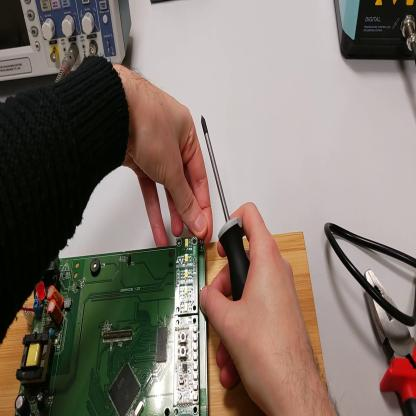hand: (201, 206, 319, 413), (119, 69, 213, 250)
low voltage board: (15, 245, 211, 414)
oscilloscope: (3, 2, 133, 86)
pliers: (366, 269, 416, 414)
screwdriver-: (203, 118, 252, 303)
welder station: (334, 2, 416, 61)
working area: (1, 232, 329, 416)
